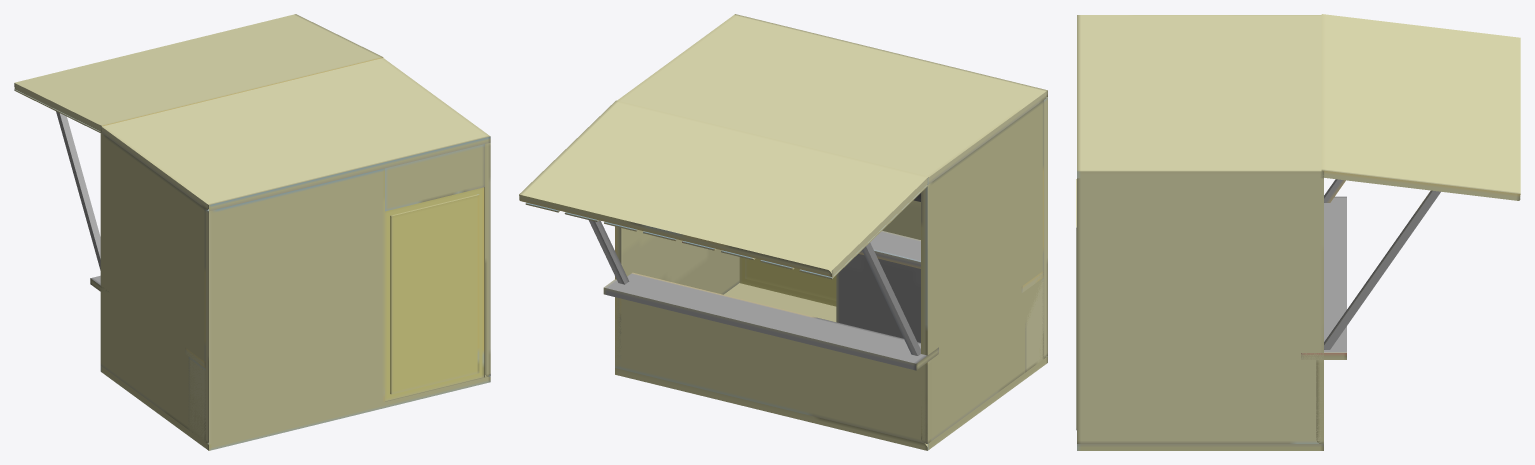
Rendered from nedolarek.fbx.
3 views of the same model, side by side, from view 1: azimuth 30°, elevation 25°; view 2: azimuth 150°, elevation 25°; view 3: azimuth 270°, elevation 25° (orthographic). The views are drawn at different scales.
Parts seen in each view (by area): view 1: cube.001, cube.003, cube.007, cube.029, cube.039, cube.009, cube.038, cube, cube.008, cube.005, cube.011; view 2: cube.029, cube.003, cube.007, cube.002, cube.004, cube.011, cube.008, cube, cube.039, cube.001, cube.010, cube.005 (+2 smaller); view 3: cube.008, cube.003, cube.029, cube.004, cube.006, cube, cube.002.
Boxes of the visible parts, x1=… form: cube.001: x1=205, y1=168, x2=384, y2=444; cube.003: x1=100, y1=58, x2=490, y2=211; cube.007: x1=100, y1=133, x2=205, y2=441; cube.029: x1=14, y1=14, x2=383, y2=131; cube.039: x1=390, y1=194, x2=479, y2=394; cube.009: x1=385, y1=144, x2=484, y2=211; cube.038: x1=385, y1=187, x2=484, y2=400; cube: x1=100, y1=366, x2=490, y2=450; cube.008: x1=484, y1=143, x2=490, y2=377; cube.005: x1=56, y1=111, x2=100, y2=270; cube.011: x1=188, y1=357, x2=205, y2=441; cube.029: x1=519, y1=100, x2=928, y2=276; cube.003: x1=617, y1=14, x2=1047, y2=184; cube.007: x1=921, y1=100, x2=1043, y2=442; cube.002: x1=615, y1=298, x2=931, y2=443; cube.004: x1=603, y1=272, x2=938, y2=370; cube.011: x1=836, y1=254, x2=1043, y2=372; cube.008: x1=615, y1=226, x2=739, y2=367; cube: x1=615, y1=283, x2=1047, y2=450; cube.039: x1=745, y1=258, x2=836, y2=300; cube.001: x1=882, y1=97, x2=1047, y2=358; cube.010: x1=858, y1=230, x2=1043, y2=292; cube.005: x1=862, y1=242, x2=920, y2=355; cube.008: x1=1077, y1=178, x2=1323, y2=443; cube.003: x1=1077, y1=15, x2=1323, y2=178; cube.029: x1=1321, y1=14, x2=1520, y2=200; cube.004: x1=1301, y1=196, x2=1346, y2=359; cube.006: x1=1324, y1=190, x2=1440, y2=349; cube: x1=1077, y1=444, x2=1323, y2=450; cube.002: x1=1316, y1=360, x2=1323, y2=443.
Bounding box in the file's own units: 300 × 251 × 360.
1 material, 1 textured.
